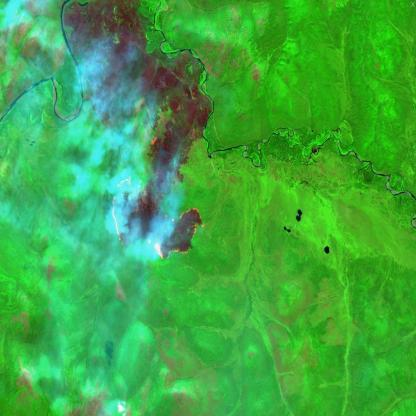fire: (106, 173, 208, 263), (144, 128, 166, 151)
